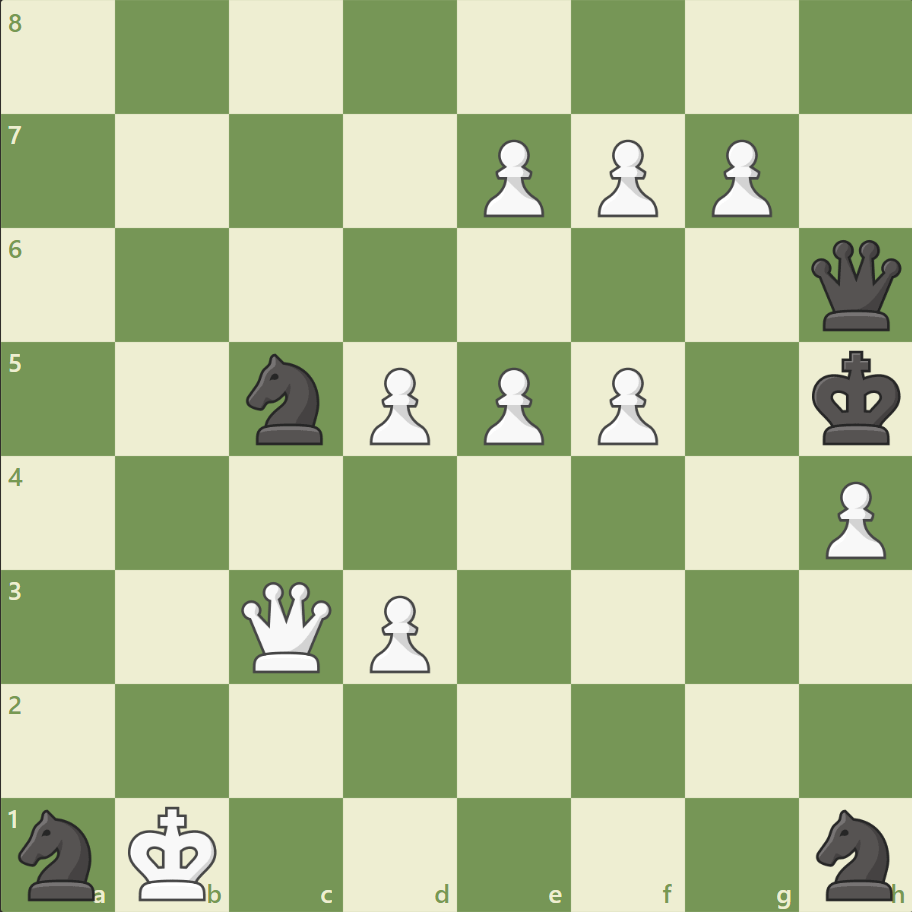K: (124, 798, 224, 906)
P: (474, 132, 549, 223), (701, 132, 776, 223), (474, 359, 549, 450), (588, 132, 662, 223), (361, 359, 435, 450), (588, 359, 662, 450), (815, 473, 889, 564), (361, 586, 435, 677)
Q: (237, 576, 336, 676)
k: (806, 344, 906, 452)
n: (238, 348, 335, 450), (11, 802, 108, 904), (806, 802, 903, 904)
q: (805, 236, 904, 335)
